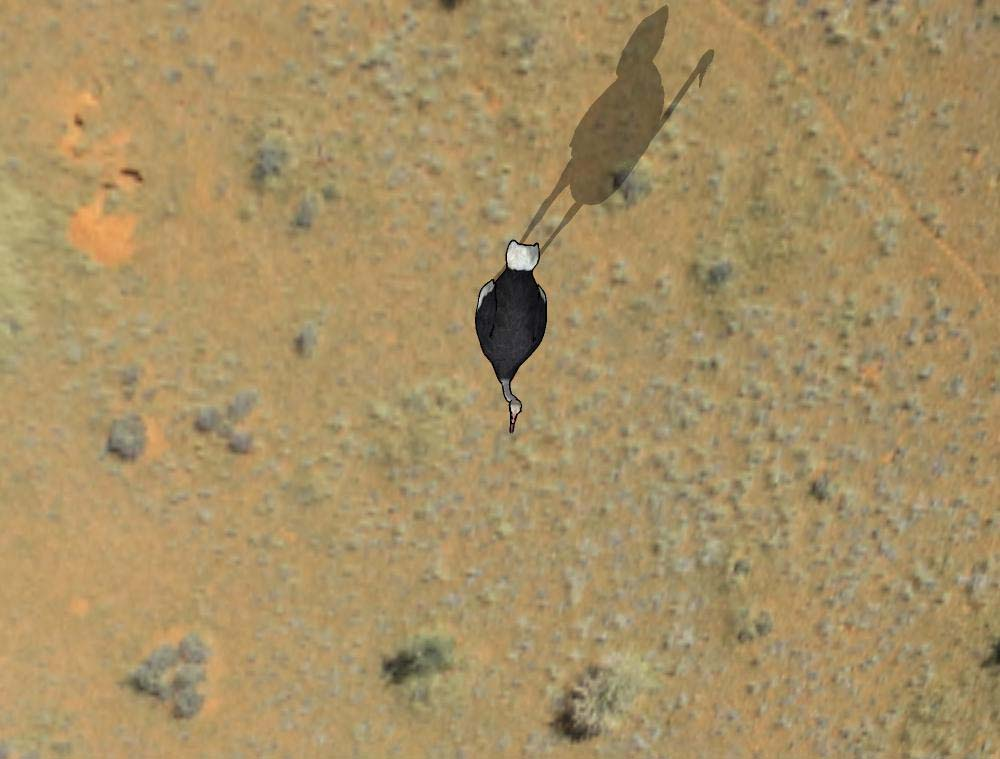springbok: (466, 234, 561, 434)
